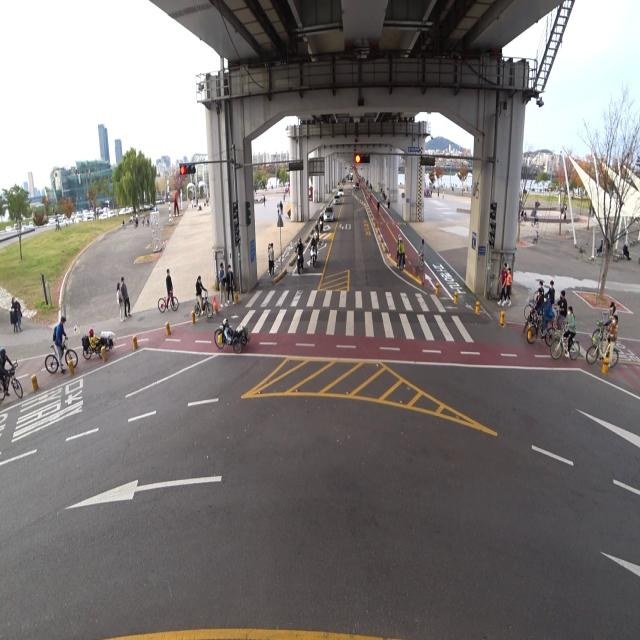Car: (322, 201, 336, 227), (336, 185, 347, 200), (332, 192, 342, 206)
Motorcycle: (295, 234, 303, 274), (309, 233, 317, 266), (311, 217, 320, 242), (316, 209, 323, 235)
